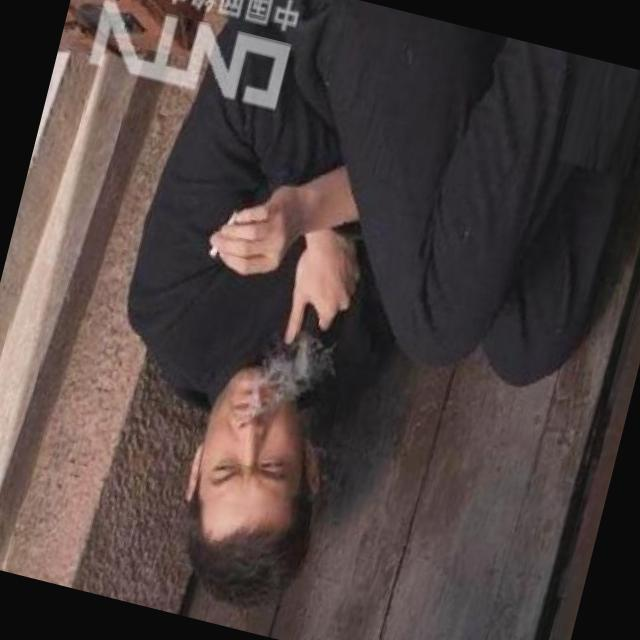smoke: (204, 204, 244, 264)
